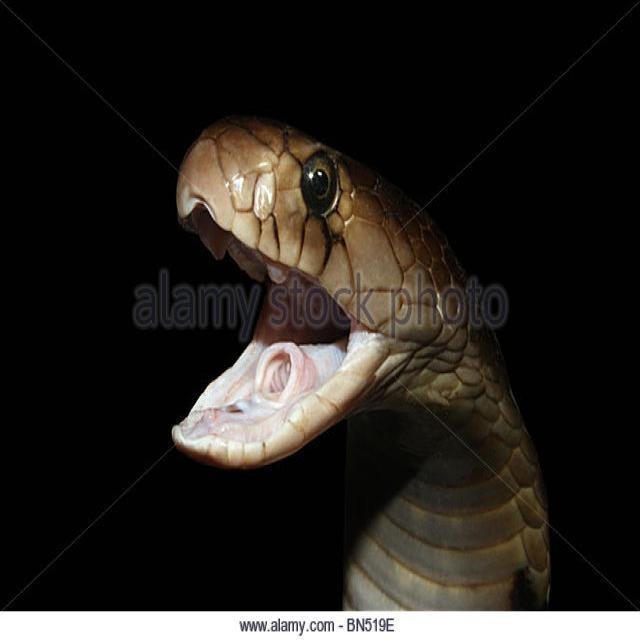Snake: (152, 110, 566, 614)
